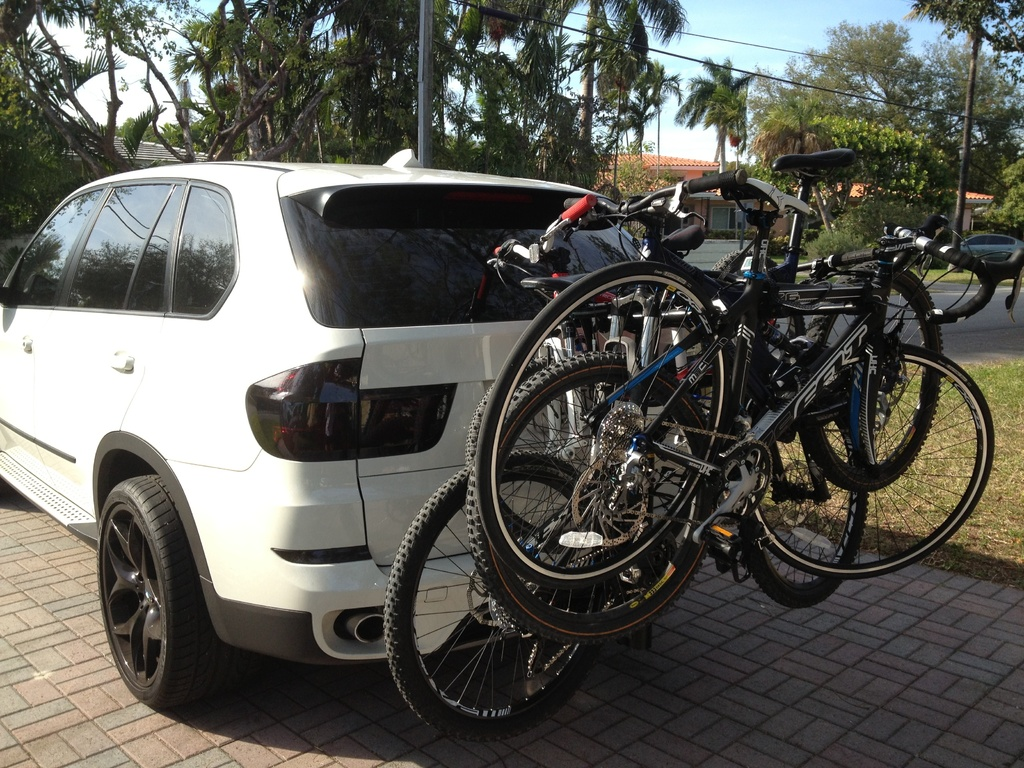mobil: (6, 158, 559, 699)
